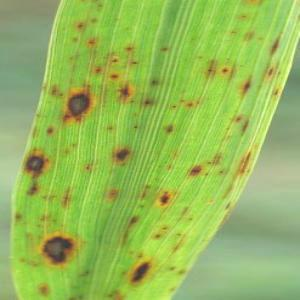0 BrownSpot: (33, 233, 84, 269), (60, 81, 96, 125), (127, 255, 157, 289), (107, 142, 136, 171), (113, 77, 139, 105), (55, 182, 78, 211), (21, 152, 48, 176), (265, 30, 288, 58), (235, 72, 258, 97), (238, 146, 255, 178), (207, 147, 226, 170), (185, 161, 206, 181), (156, 188, 174, 210), (203, 58, 219, 82), (24, 181, 42, 199), (106, 183, 121, 203), (41, 123, 59, 139), (35, 281, 53, 297), (239, 117, 252, 138), (169, 239, 185, 255), (161, 122, 177, 137), (127, 213, 143, 228), (73, 19, 89, 34), (269, 84, 283, 100), (66, 33, 84, 45), (103, 122, 118, 136), (236, 10, 251, 23), (11, 209, 24, 224), (91, 64, 106, 77), (86, 34, 99, 49), (243, 28, 256, 43), (111, 287, 126, 300), (48, 84, 60, 100), (175, 266, 189, 279), (121, 43, 136, 55), (141, 96, 154, 109), (106, 72, 121, 83), (66, 291, 84, 300), (82, 162, 95, 174), (156, 44, 171, 54), (148, 76, 160, 88), (223, 201, 235, 213), (30, 125, 39, 141), (129, 122, 142, 133), (264, 65, 275, 78), (151, 232, 163, 243), (215, 167, 228, 177), (219, 65, 230, 76), (233, 113, 244, 124), (169, 102, 181, 112), (126, 59, 141, 67), (228, 27, 240, 37), (118, 268, 130, 278), (185, 100, 196, 110), (88, 15, 99, 25), (166, 264, 177, 274), (167, 285, 179, 294), (136, 202, 148, 211), (81, 267, 93, 276), (95, 1, 105, 11), (201, 171, 212, 180), (165, 162, 174, 173), (196, 53, 205, 63), (161, 224, 171, 233), (62, 148, 72, 157), (135, 251, 145, 260), (189, 34, 199, 43), (104, 291, 114, 300), (33, 111, 44, 119), (110, 56, 119, 65), (70, 141, 80, 149), (174, 230, 184, 238), (126, 248, 135, 256), (17, 256, 26, 264), (186, 216, 194, 224), (256, 35, 264, 43), (276, 69, 283, 78), (194, 100, 203, 107), (225, 55, 232, 63), (58, 92, 66, 99), (224, 124, 231, 132), (60, 223, 66, 229), (51, 218, 57, 224), (36, 223, 42, 229)
